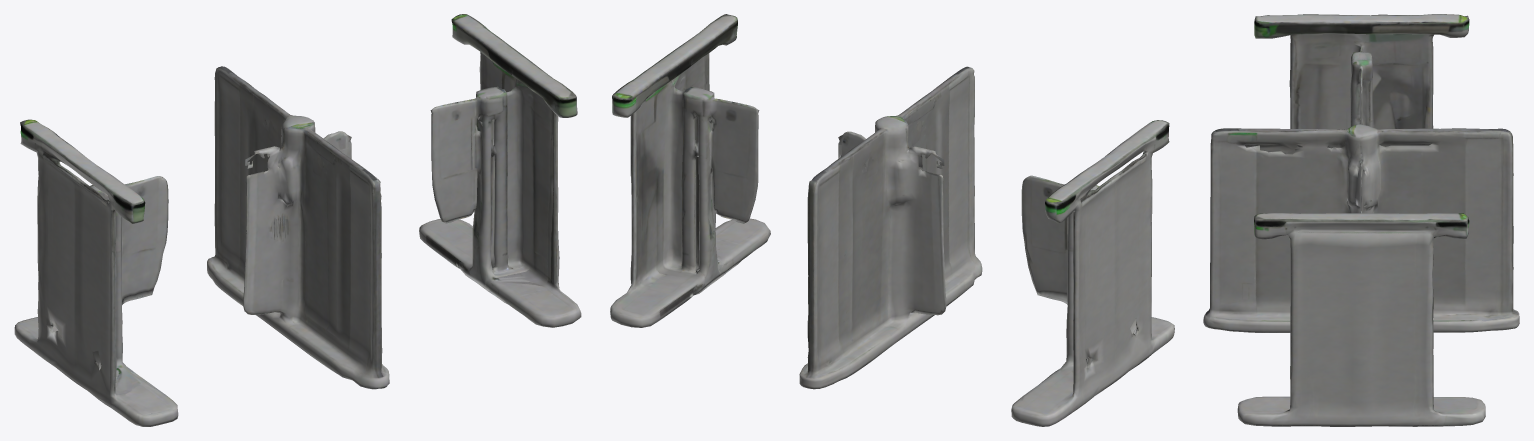
The model's file is Turnstile_Gate_System_0129182024_texture.fbx.
3 renders of one model, left to right at view 1: azimuth 30°, elevation 25°; view 2: azimuth 150°, elevation 25°; view 3: azimuth 270°, elevation 25°, orthographic. The views are drawn at different scales.
Visible parts, largest first — view 1: Mesh1_Mesh1.005; view 2: Mesh1_Mesh1.005; view 3: Mesh1_Mesh1.005.
Part boxes in pixels (x1,y1,x2,y2): Mesh1_Mesh1.005: (14, 14, 581, 426); Mesh1_Mesh1.005: (610, 14, 1174, 426); Mesh1_Mesh1.005: (1203, 14, 1519, 426).
Bounding box in the file's own units: 200 × 93.53 × 129.
1 material, 1 textured.
